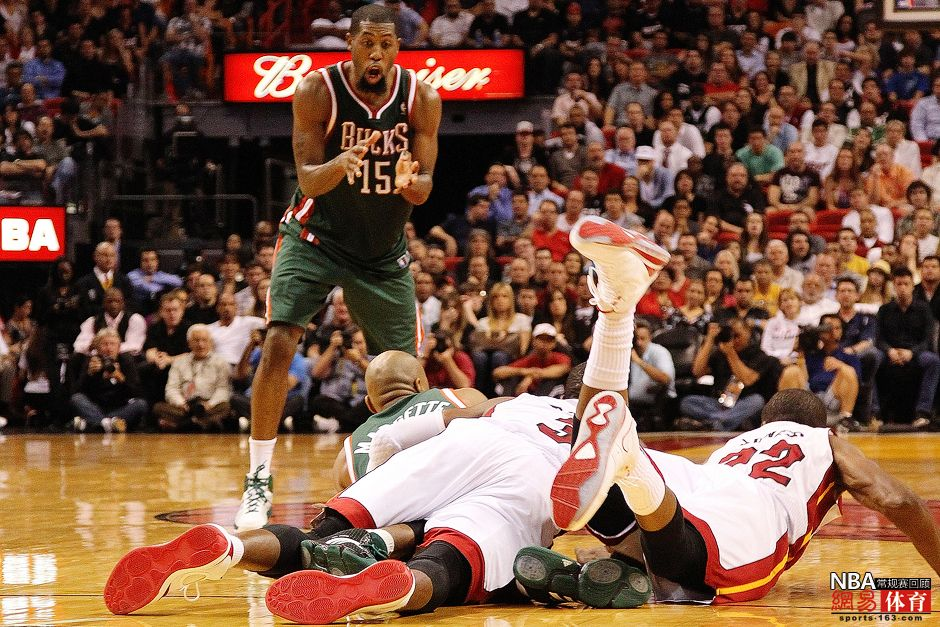10+: (7, 2, 940, 524)
down: (543, 195, 940, 603), (92, 332, 643, 618), (318, 337, 490, 529)
